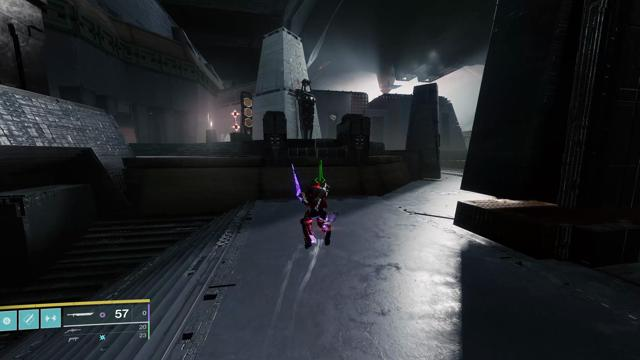brain: (329, 114, 337, 122)
